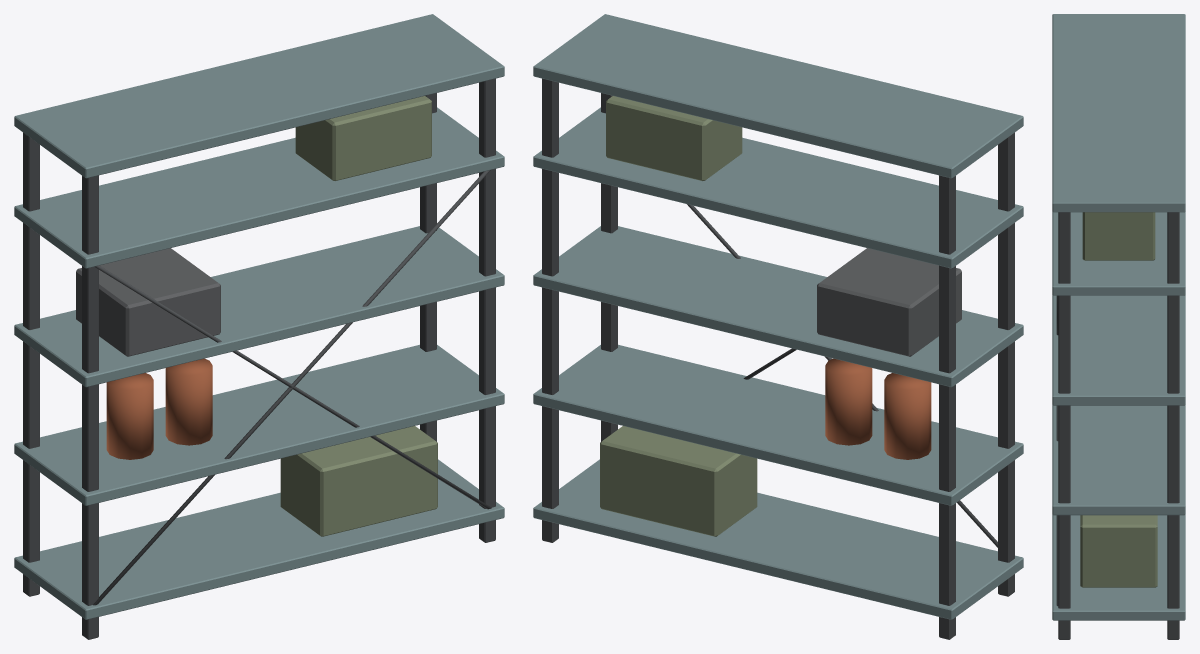
File: shelf_unit_alt.glb
3 renders of one model, left to right at view 1: azimuth 30°, elevation 25°; view 2: azimuth 150°, elevation 25°; view 3: azimuth 270°, elevation 25°, orthographic. The views are drawn at different scales.
Parts seen in each view (by area): view 1: shelf_unit_alt; view 2: shelf_unit_alt; view 3: shelf_unit_alt.
Boxes of the visible parts, x1,y1,x2,y2 form: shelf_unit_alt: [14, 14, 504, 639]; shelf_unit_alt: [533, 14, 1023, 639]; shelf_unit_alt: [1052, 14, 1185, 639].
Bounding box in the file's own units: 1.85 × 2.01 × 0.55.
